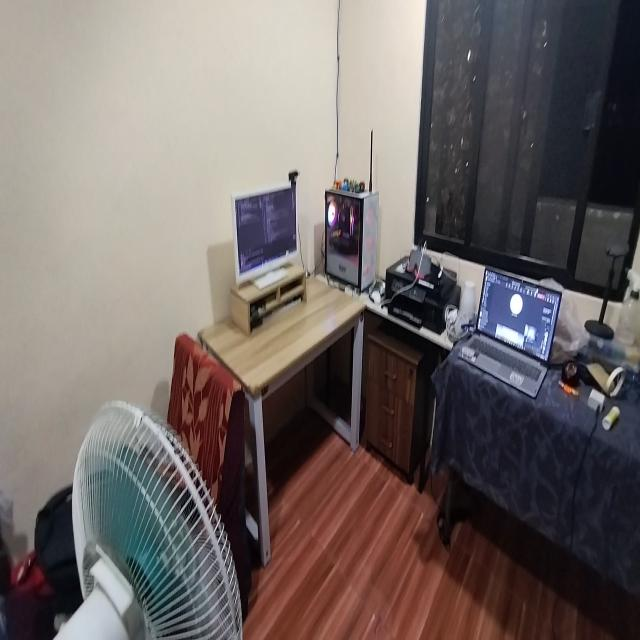table: (207, 261, 369, 561)
